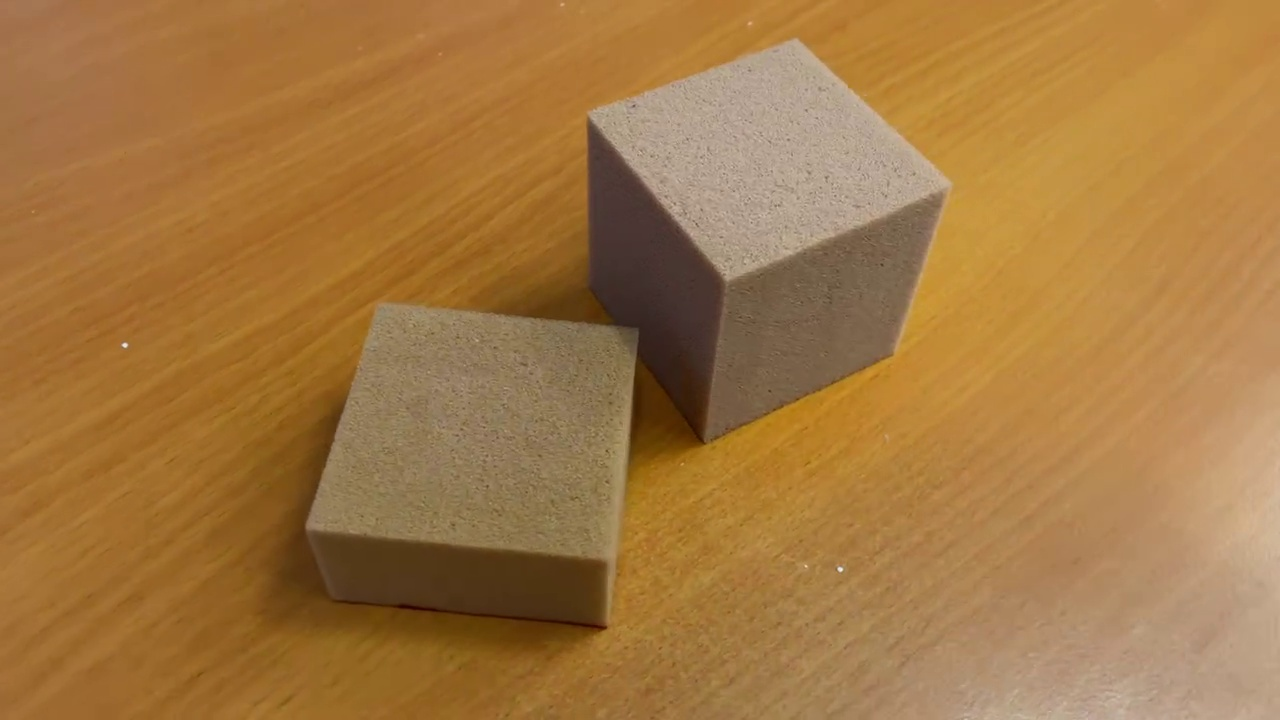Cube: (580, 33, 951, 450)
Cube_short: (297, 298, 649, 631)
